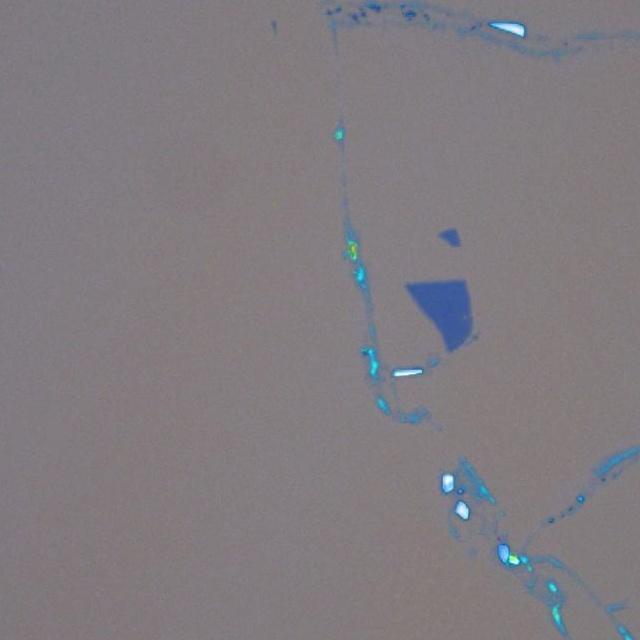monolayer-eWW4: (406, 276, 477, 356), (438, 225, 460, 248)
